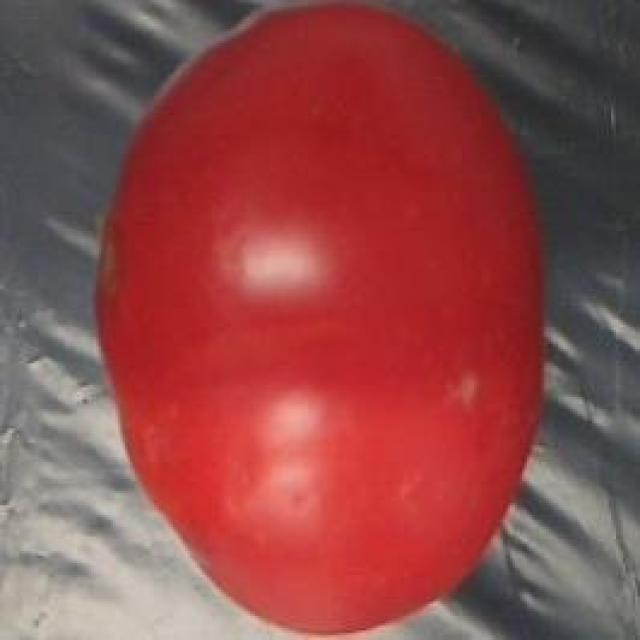ripe tomato: (75, 2, 572, 640)
